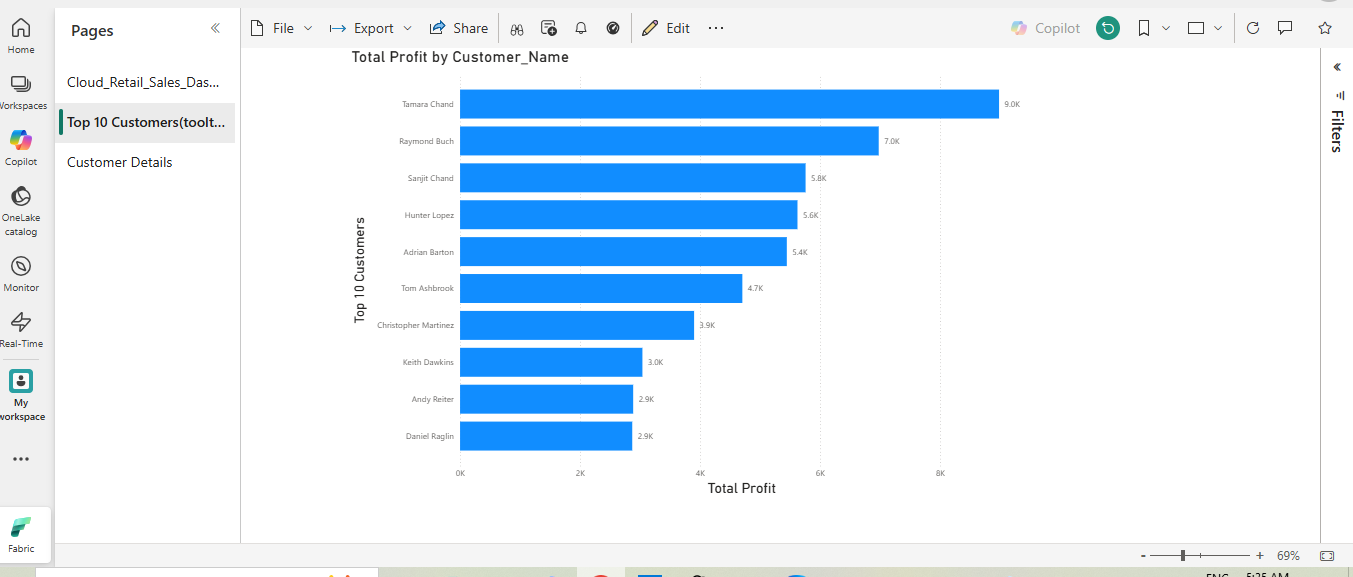

This screenshot's page, from the dashboard's own definition file:
{"tool":"powerbi","page":{"name":"Top 10 Customers(tooltip)","canvas":[1280,720],"ordinal":1},"visuals":[{"type":"barChart","title":"Total Profit by Customer_Name","fields":{"Category":["retail_sales.Customer_Name"],"Y":["Sum(retail_sales.Profit)"]},"box":[10.1,0,994.4,656.8],"z":0}]}

Visuals, with their boxes on the page's 1280x720 design canvas (x1, y1, x2, y2). These are canvas units, not pixel positions in the 1353x577 screenshot, which may show the page scaled, cropped or inside an application window:
"Total Profit by Customer_Name" barChart: locate(10, 0, 1004, 657)
